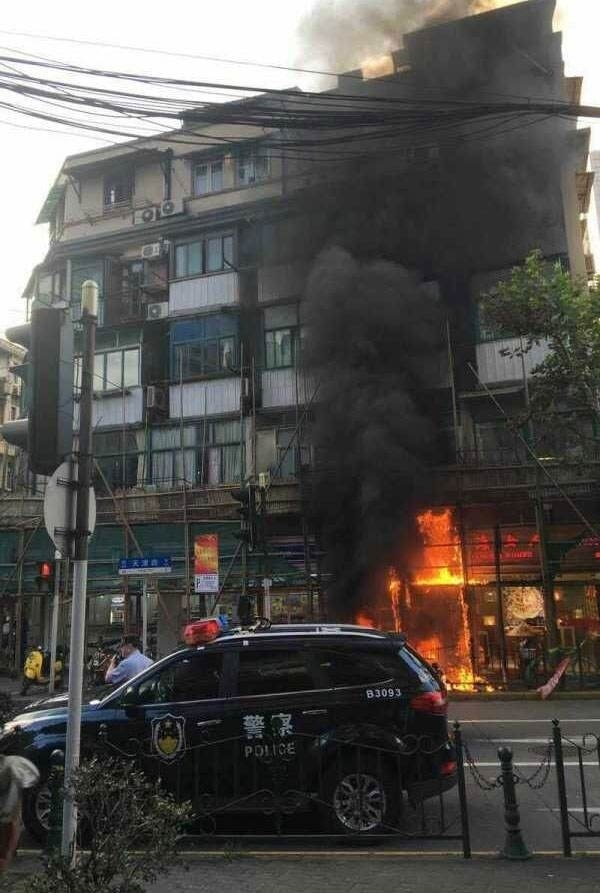fire: (368, 505, 510, 698)
